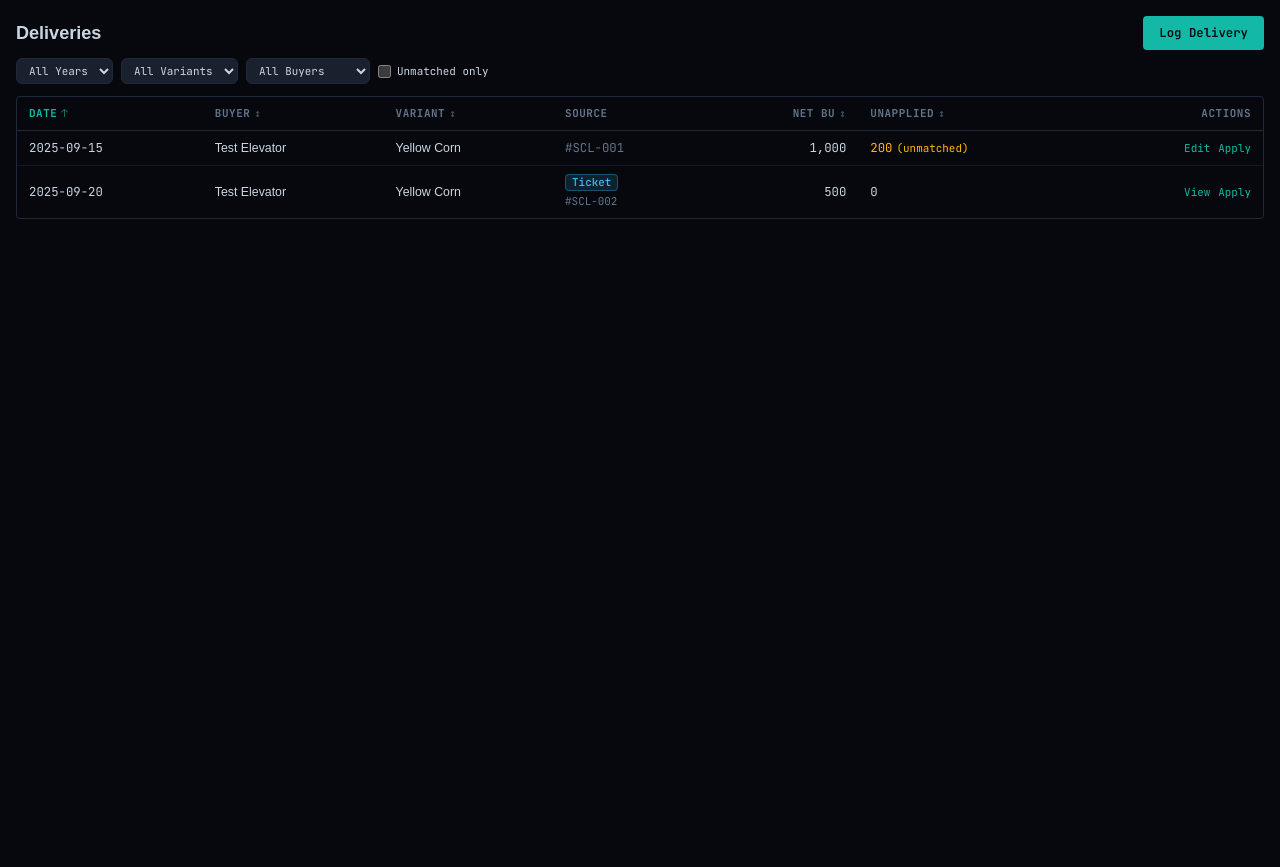
DeliveryListClient › opening a ticket-sourced row titles the drawer View Delivery
Click the button with aria-label "view delivery del-2" at (1197, 192), box [1184,184,1210,200]
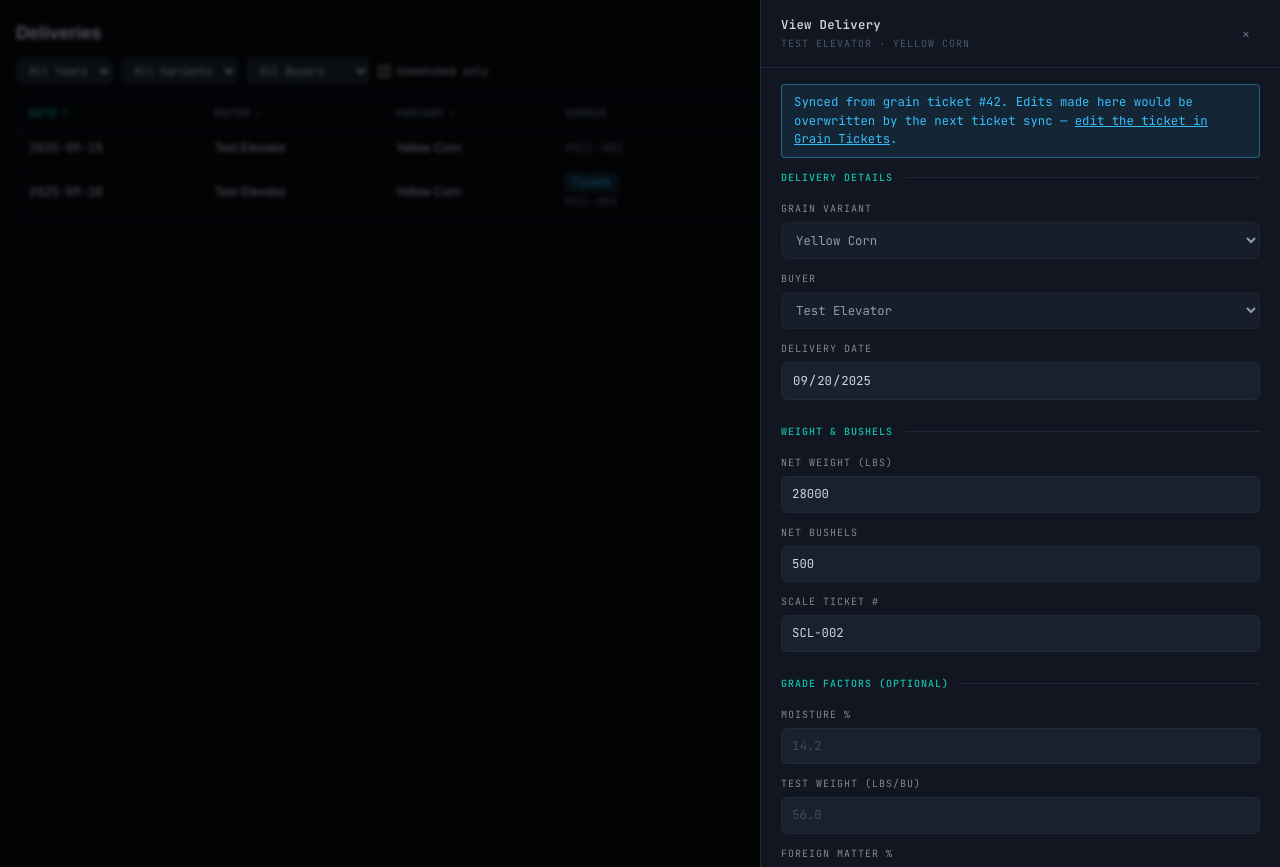
expect the heading "View Delivery" is shown: met, box [781,16,881,33]
expect the text "Synced from grain ticket #42" is shown: met, box [781,84,1260,158]
